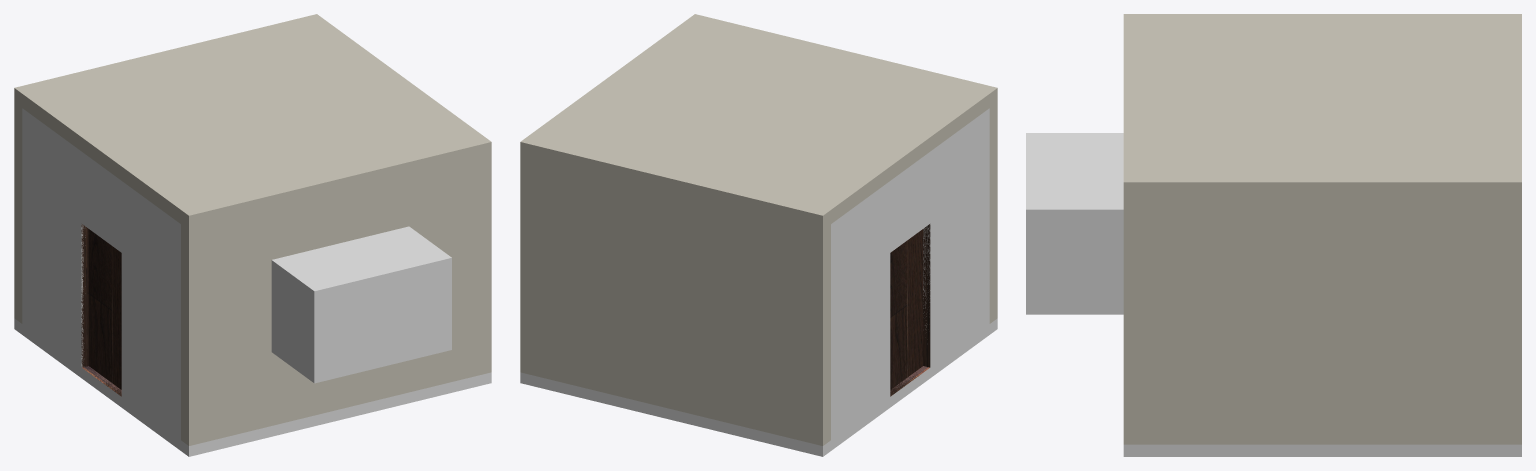
Rendered from soba4.fbx.
3 renders of one model, left to right at view 1: azimuth 30°, elevation 25°; view 2: azimuth 150°, elevation 25°; view 3: azimuth 270°, elevation 25°, orthographic. The views are drawn at different scales.
Parts seen in each view (by area): view 1: tavan, sidewall2, sidewall1, prozor, door, floor, sidewall4; view 2: sidewall4, tavan, sidewall1, door, floor, sidewall2; view 3: sidewall3, tavan, prozor, floor, sidewall2, sidewall4.
Boxes of the visible parts, left/top/right/bottom form: tavan: left=14, top=14, right=491, bottom=229; sidewall2: left=181, top=156, right=491, bottom=445; sidewall1: left=22, top=108, right=180, bottom=439; prozor: left=271, top=226, right=451, bottom=383; door: left=81, top=224, right=121, bottom=396; floor: left=14, top=318, right=491, bottom=456; sidewall4: left=14, top=102, right=22, bottom=323; sidewall4: left=520, top=156, right=830, bottom=445; tavan: left=520, top=14, right=997, bottom=229; sidewall1: left=831, top=108, right=989, bottom=439; door: left=890, top=224, right=930, bottom=396; floor: left=520, top=318, right=997, bottom=456; sidewall2: left=989, top=102, right=997, bottom=323; sidewall3: left=1142, top=198, right=1503, bottom=444; tavan: left=1123, top=14, right=1521, bottom=198; prozor: left=1026, top=133, right=1123, bottom=314; floor: left=1123, top=444, right=1521, bottom=456; sidewall2: left=1123, top=198, right=1141, bottom=444; sidewall4: left=1503, top=198, right=1521, bottom=444.
Size of the model in its own units: 4.4 by 5.48 by 3.35.
Materials: 6 (4 with a texture image).
